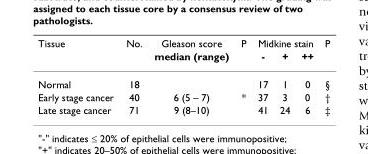table: (37, 36, 329, 115)
table column: (147, 36, 234, 115), (37, 36, 119, 115), (119, 36, 147, 115), (295, 36, 318, 115), (251, 36, 273, 115), (273, 36, 295, 115), (234, 36, 251, 115), (318, 36, 329, 115)
table column header: (37, 36, 329, 69)
table row: (37, 69, 329, 90), (37, 49, 329, 69), (37, 36, 329, 49), (37, 90, 329, 103), (37, 103, 329, 115)
table spanning cell: (147, 36, 234, 69), (37, 36, 119, 69), (119, 36, 147, 69), (251, 36, 318, 49), (234, 36, 251, 69), (318, 36, 329, 69)
